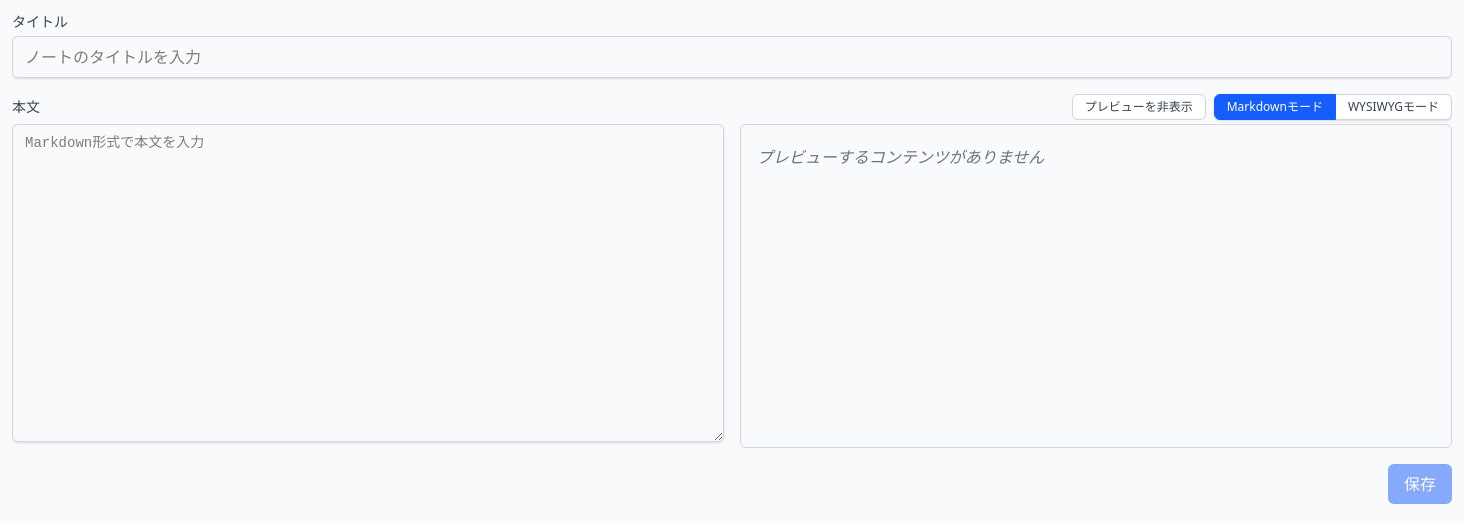
Scenario: NoteEditor › タイトルを入力すると保存ボタンが有効になること
Type "テストタイトル" into the field labelled "タイトル" at point(732, 57), box [12,36,1452,78]
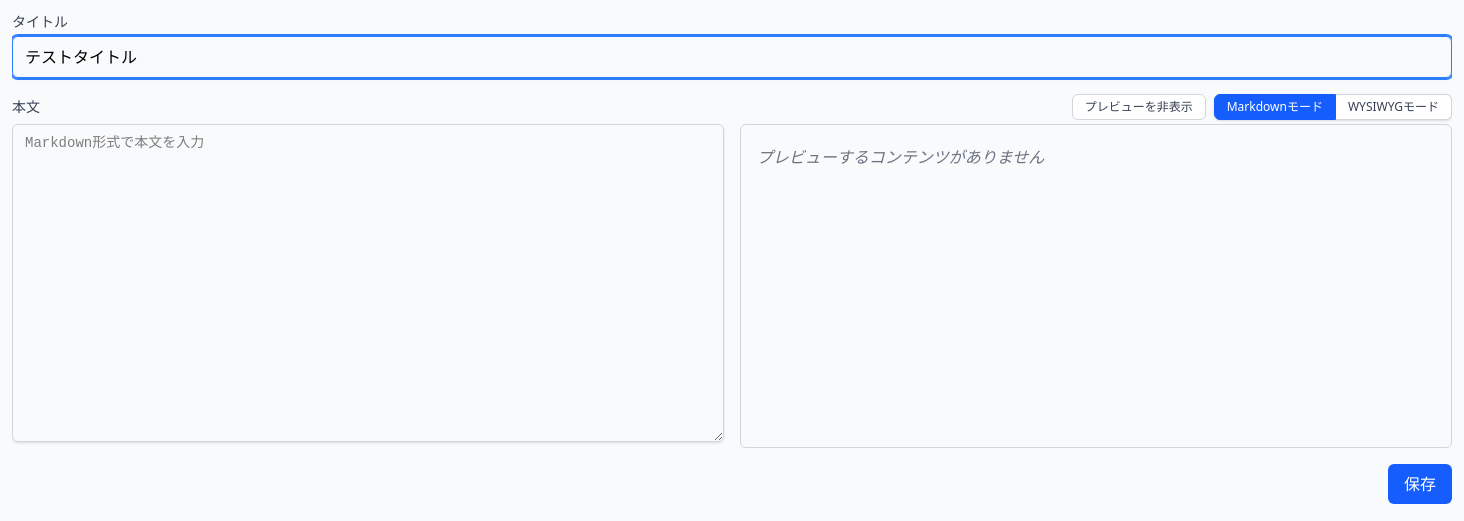
Result: the button "保存" is enabled at [1388,464,1452,504]
